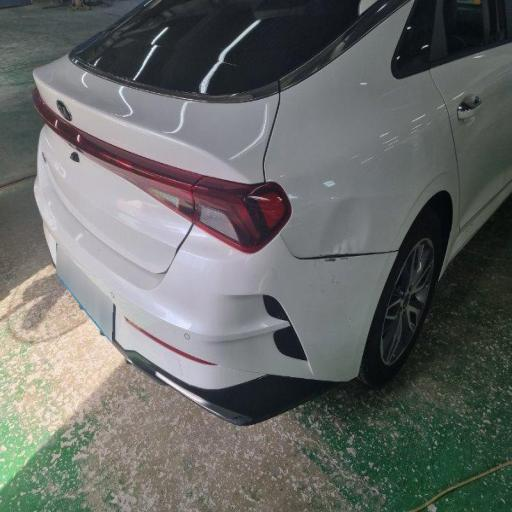broken: (258, 196, 413, 314)
